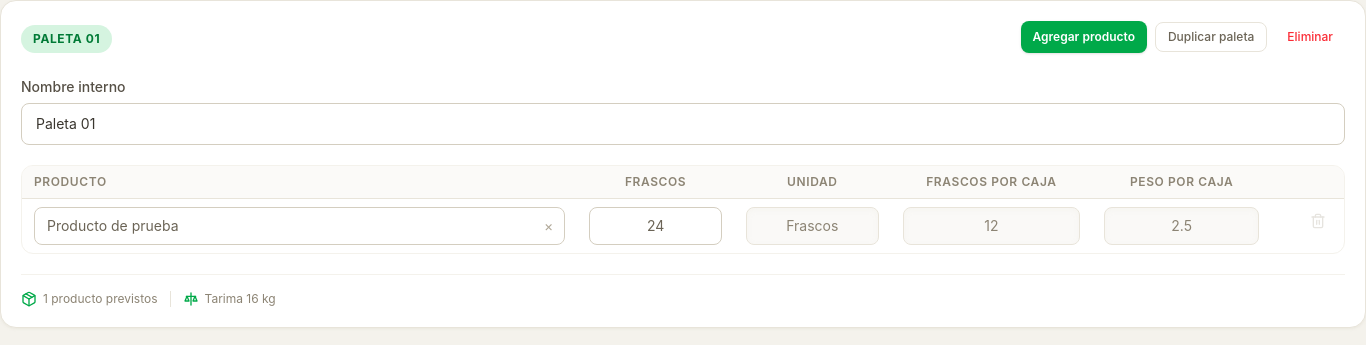
Test: PalletCard — reusable product combobox › closes the product listbox on outside click
Click the dropdown named "producto": (300, 226) top-left (34, 207), bottom-right (565, 245)
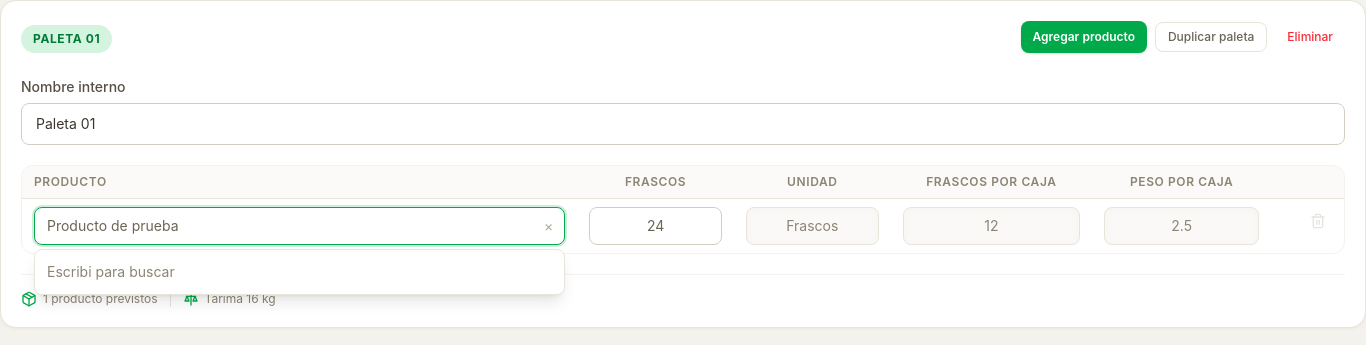
Now the list is shown, box top-left (47, 263), bottom-right (175, 280)
Click the text "PALETA 01": (67, 39) top-left (21, 25), bottom-right (112, 53)
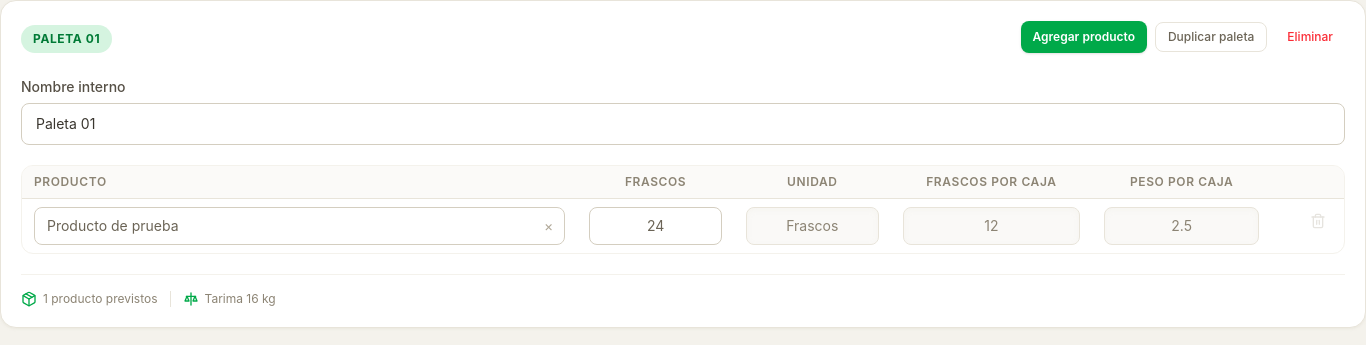
Now the list is gone
